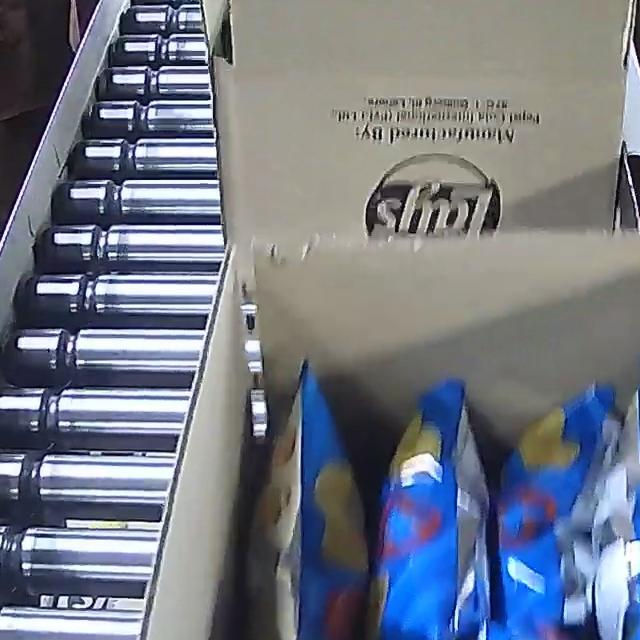paprika: (242, 349, 640, 640)
